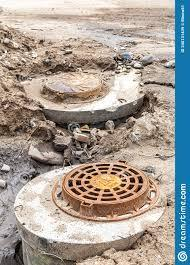closed manhole-not overflowing-: (21, 60, 142, 117)
open drainage-not overflowing-: (48, 152, 166, 228)
